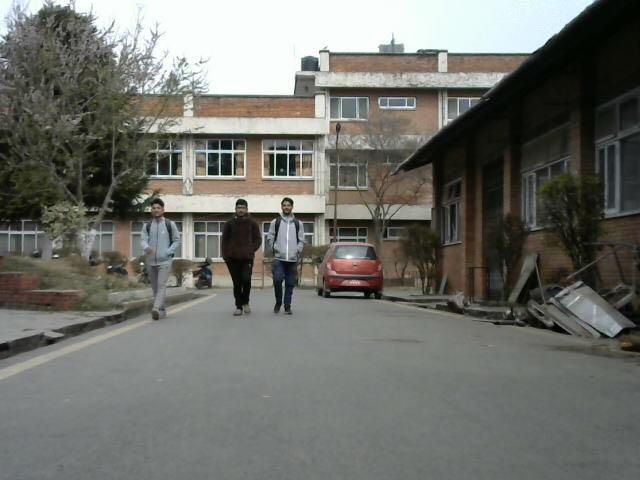Building: (143, 9, 629, 228)
Car: (328, 239, 404, 320)
Electrical Pole: (331, 118, 354, 236)
Person: (136, 199, 197, 324), (216, 199, 275, 319), (264, 194, 317, 316)
Road: (0, 301, 640, 480)
Tree: (0, 3, 150, 259)
